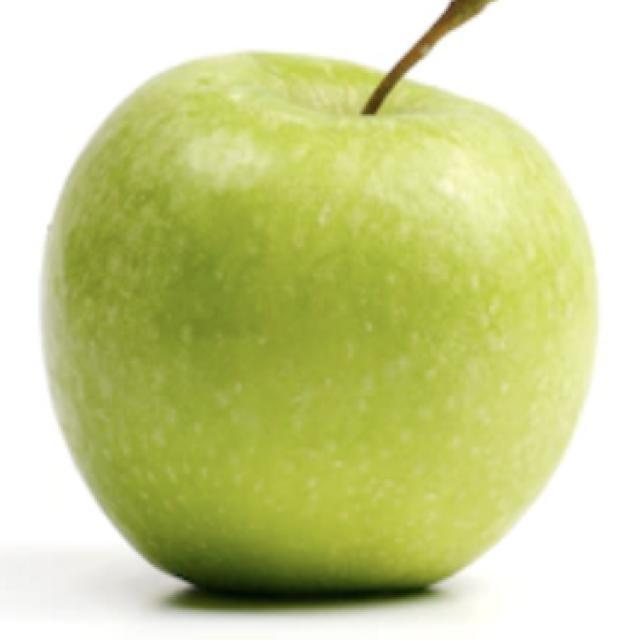Fresh Apple: (66, 65, 582, 598)
